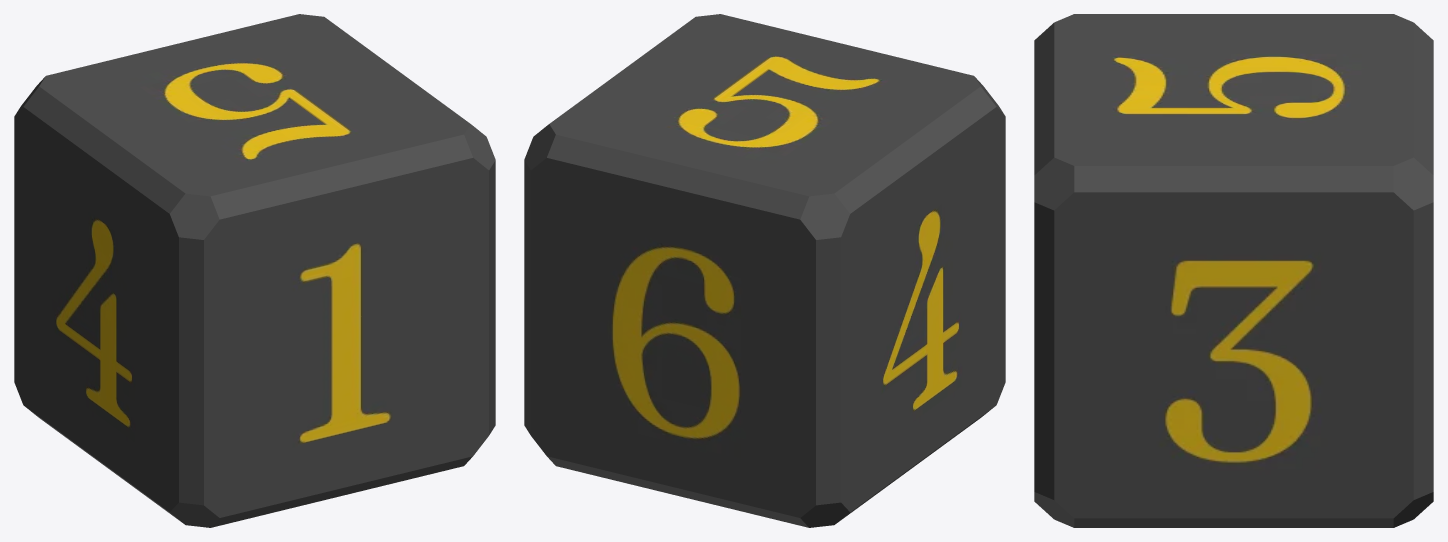
The model's file is D6Gilded.glb.
3 renders of one model, left to right at view 1: azimuth 30°, elevation 25°; view 2: azimuth 150°, elevation 25°; view 3: azimuth 270°, elevation 25°, orthographic. The views are drawn at different scales.
Parts seen in each view (by area): view 1: D6Gilded; view 2: D6Gilded; view 3: D6Gilded.
Boxes of the visible parts, x1,y1,x2,y2 form: D6Gilded: (14, 14, 495, 527); D6Gilded: (524, 14, 1005, 527); D6Gilded: (1034, 14, 1433, 527).
Bounding box in the file's own units: 2 × 2 × 2.
Materials: 1 (1 with a texture image).
